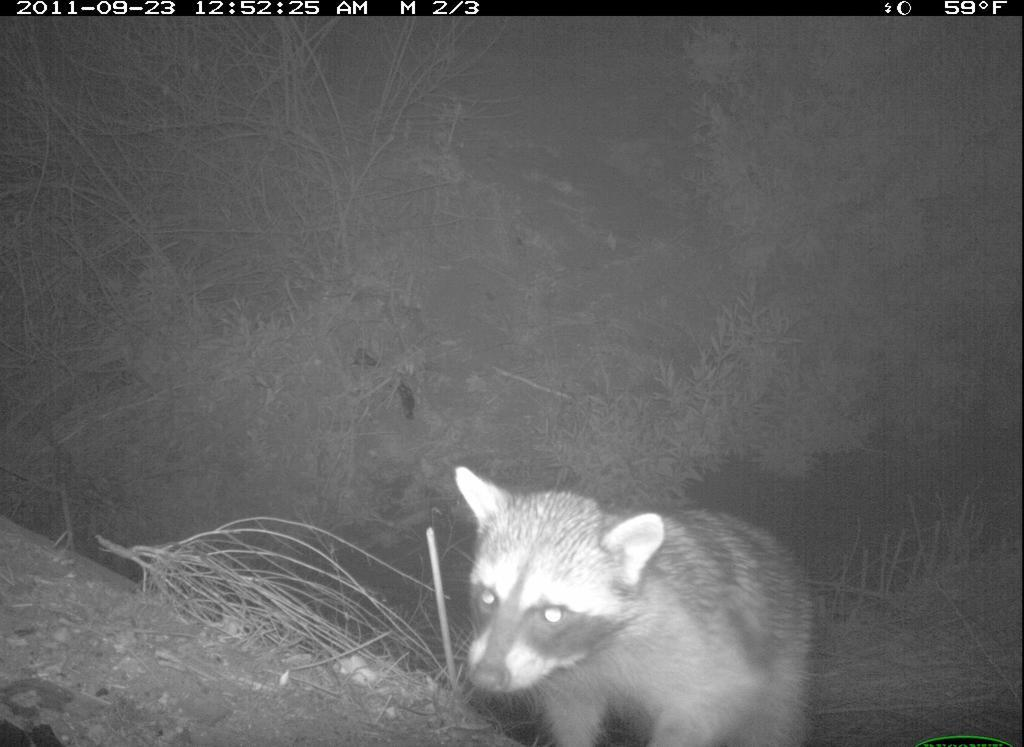raccoon: (425, 446, 830, 744)
